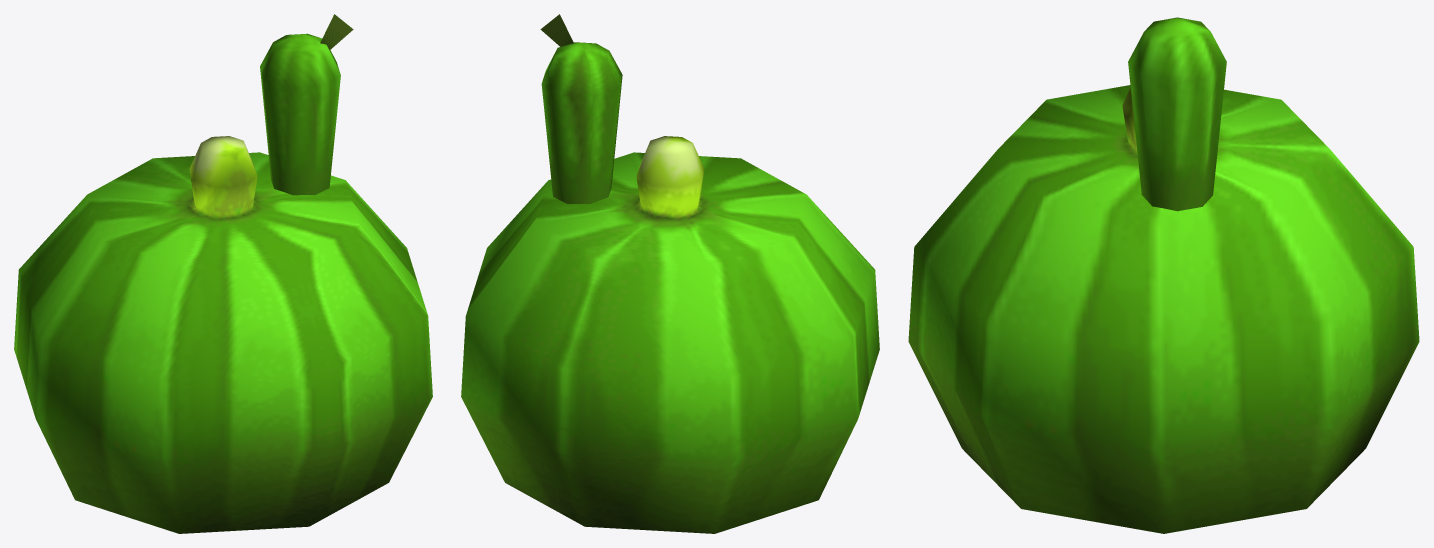
Rendered from sm_xianrenzhang2.fbx.
The picture shows the model from 3 angles, left to right: view 1: azimuth 30°, elevation 25°; view 2: azimuth 150°, elevation 25°; view 3: azimuth 270°, elevation 25°; orthographic projection. The views are drawn at different scales.
Parts seen in each view (by area): view 1: sm_xianrenzhang2; view 2: sm_xianrenzhang2; view 3: sm_xianrenzhang2.
Boxes of the visible parts, x1,y1,x2,y2 form: sm_xianrenzhang2: (14,14,432,533); sm_xianrenzhang2: (461,14,879,533); sm_xianrenzhang2: (908,17,1419,533).
Size of the model in its own units: 149 by 160 by 149.
